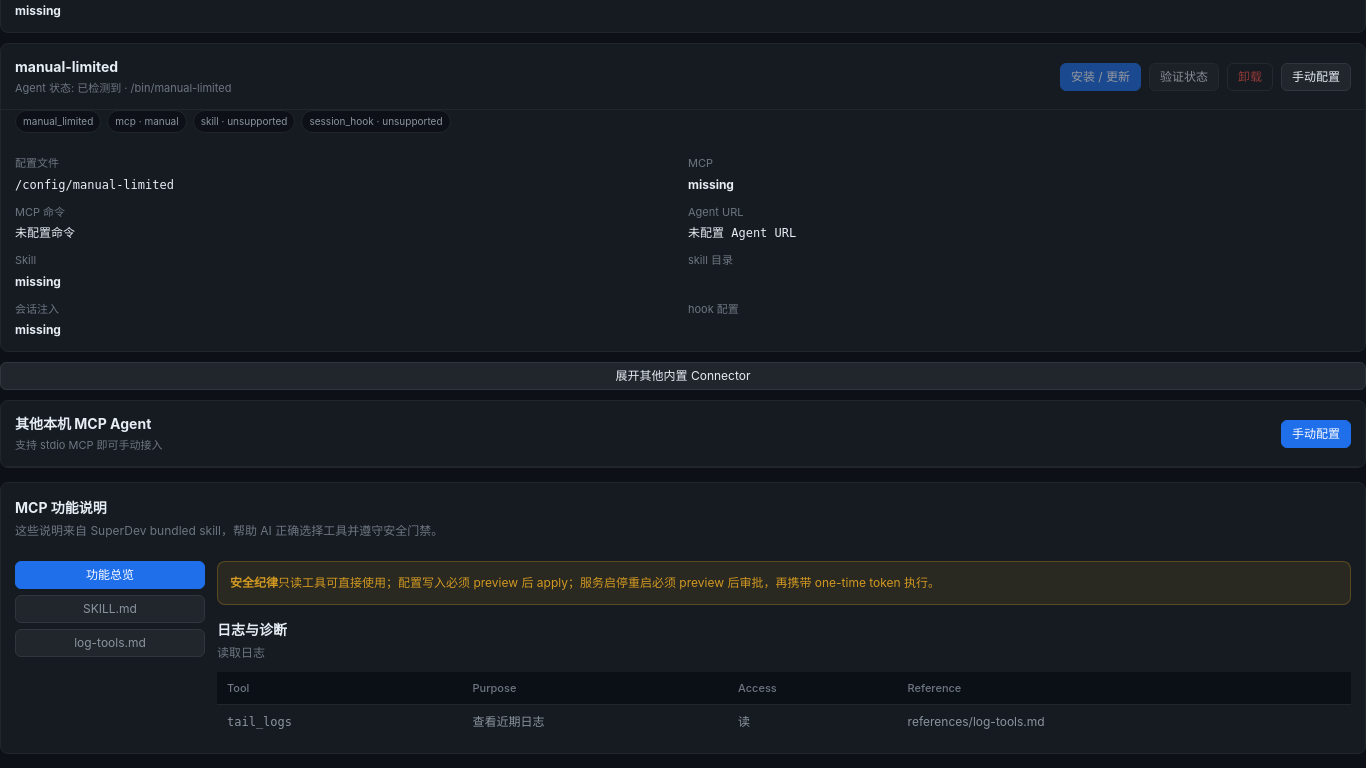
Test: McpManagerTab › reuses the local/cloud manual dialog for any other MCP Agent
This screenshot has width=1366, height=768.
(page scrolled)
Click the button with test id "mcp-open-generic-manual": (1316, 434) [1281,420,1351,448]
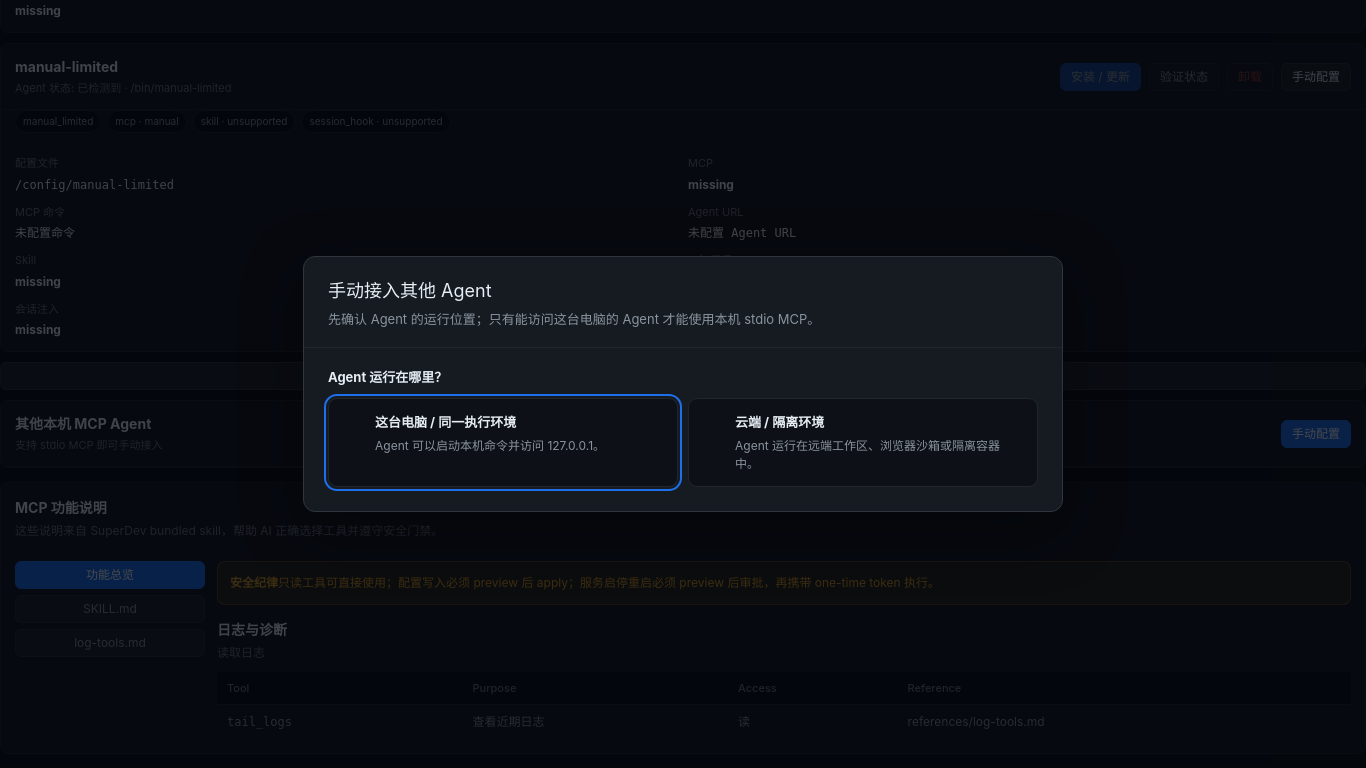
Click the button with test id "manual-env-cloud": (863, 442) [688,398,1038,487]
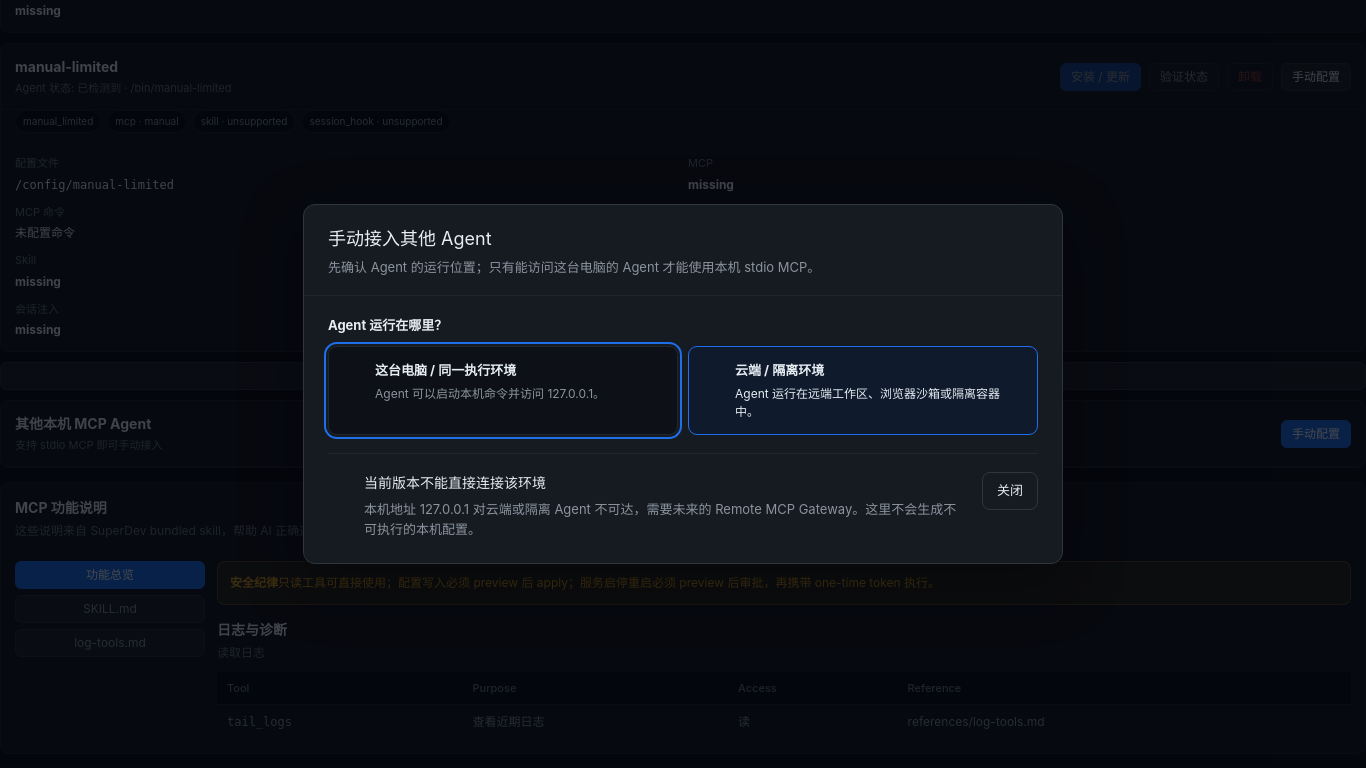
expect the element with test id "manual-cloud-limit" shows "Remote MCP Gateway": met, box [364,501,956,537]
